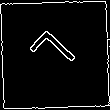L_SE: (25, 26, 85, 84)
